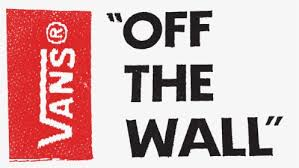vans: (37, 47, 77, 150)
